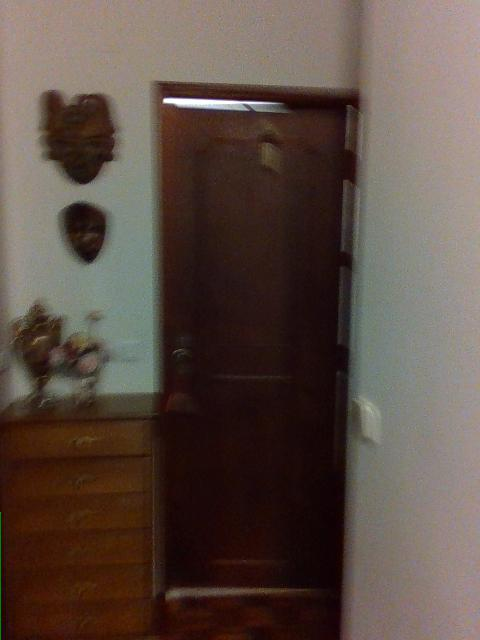door: (149, 82, 364, 604)
